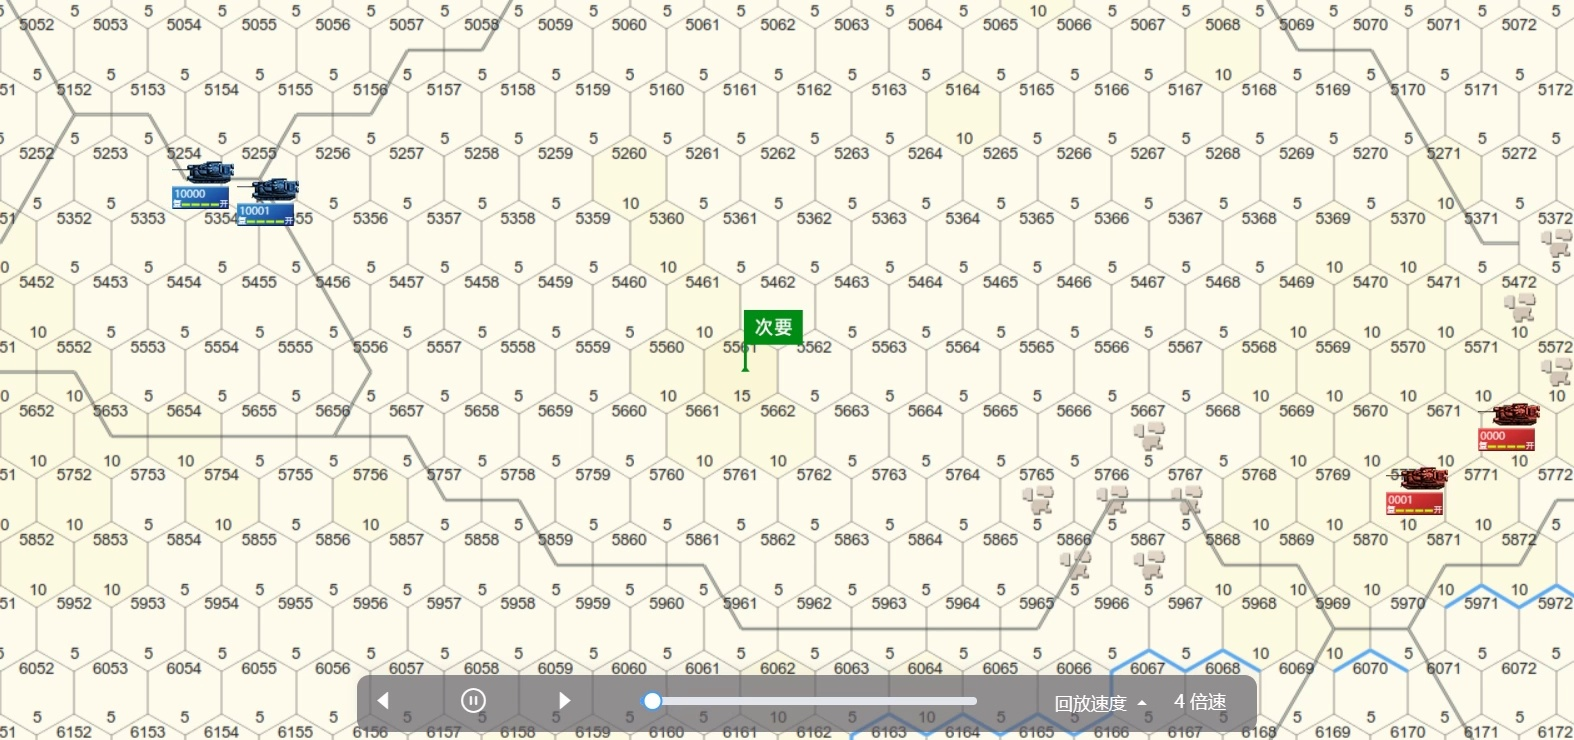blue_tank: (239, 173, 299, 222), (175, 161, 230, 204)
red_tank: (1390, 460, 1451, 512), (1481, 404, 1535, 444)
